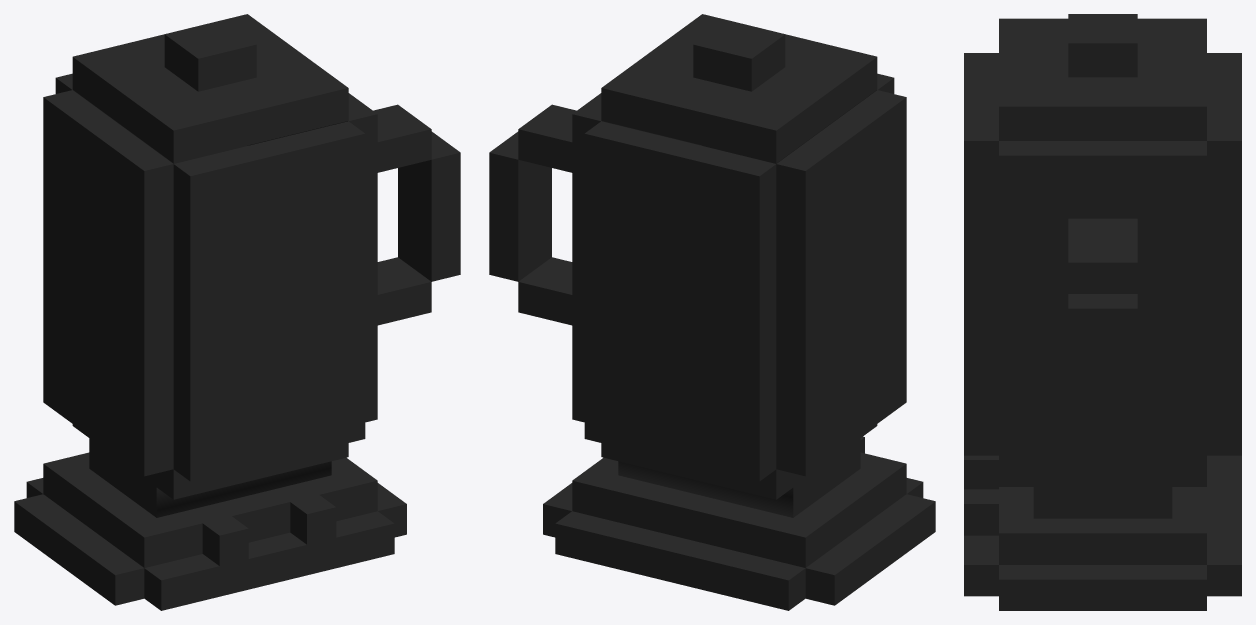
3 renders of one model, left to right at view 1: azimuth 30°, elevation 25°; view 2: azimuth 150°, elevation 25°; view 3: azimuth 270°, elevation 25°, orthographic. The views are drawn at different scales.
Parts seen in each view (by area): view 1: Taza_ObjObject, Base_ObjObject.002, Tapa_ObjObject.001; view 2: Taza_ObjObject, Base_ObjObject.002, Tapa_ObjObject.001; view 3: Taza_ObjObject, Base_ObjObject.002, Tapa_ObjObject.001.
Boxes of the visible parts, x1,y1,x2,y2 form: Taza_ObjObject: [43, 73, 460, 517]; Base_ObjObject.002: [14, 452, 406, 610]; Tapa_ObjObject.001: [72, 14, 348, 163]; Taza_ObjObject: [489, 73, 906, 517]; Base_ObjObject.002: [543, 436, 935, 610]; Tapa_ObjObject.001: [601, 14, 877, 163]; Taza_ObjObject: [964, 53, 1241, 518]; Base_ObjObject.002: [964, 455, 1241, 610]; Tapa_ObjObject.001: [999, 14, 1206, 140].
Bounding box in the file's own units: 130 × 162 × 80.
